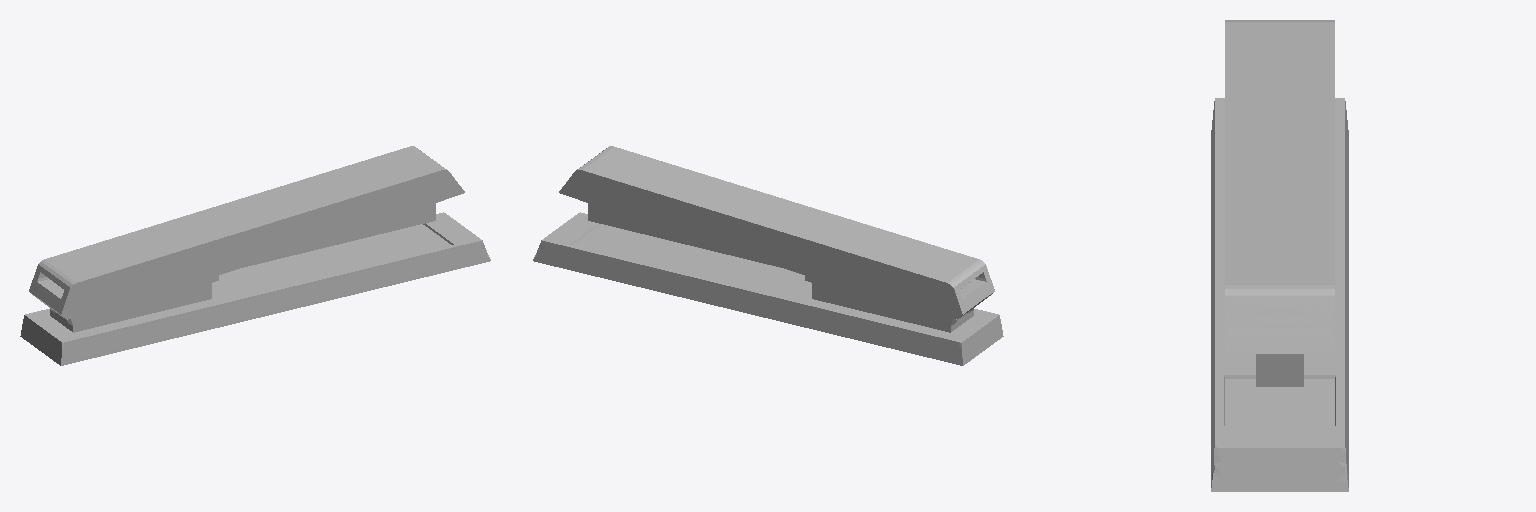
URDF robot description (root):
<robot name="root">
  <link name="link_001">
    <visual>
      <origin xyz="0 0 0" rpy="0 0 0"/>
      <geometry>
        <mesh filename="stapler.obj" scale="1.5000E+00 1.0000E+00 1.0000E+00"/>
      </geometry>
      <material name="">
        <color rgba="7.50E-01 7.50E-01 7.50E-01 1"/>
      </material>
    </visual>
    <collision>
      <origin xyz="0 0 0" rpy="0 0 0"/>
      <geometry>
        <mesh filename="stapler.obj" scale="1.5000E+00 1.0000E+00 1.0000E+00"/>
      </geometry>
    </collision>
    <inertial>
      <mass value="0.16"/> <!-- 质量：0.1kg -->
    </inertial>
  </link>
</robot>

--- Facts derived from the render (not from the file) ---
Views: 3 orthographic renders of the robot side by side, from view 1: azimuth 30°, elevation 25°; view 2: azimuth 150°, elevation 25°; view 3: azimuth 270°, elevation 25°.
Model root with 1 links and 0 joints (none), rooted at link_001, posed all joints at 0.
Links seen in each view (by area): view 1: link_001; view 2: link_001; view 3: link_001.
Boxes of the visible links, x1,y1,x2,y2 form: link_001: [20, 146, 490, 365]; link_001: [533, 146, 1003, 365]; link_001: [1211, 20, 1348, 491].
Size in the robot's own frame: 0.1845 by 0.03 by 0.0405 metres.
1 mesh visuals loaded from 1 distinct referenced files (1 OBJ).
